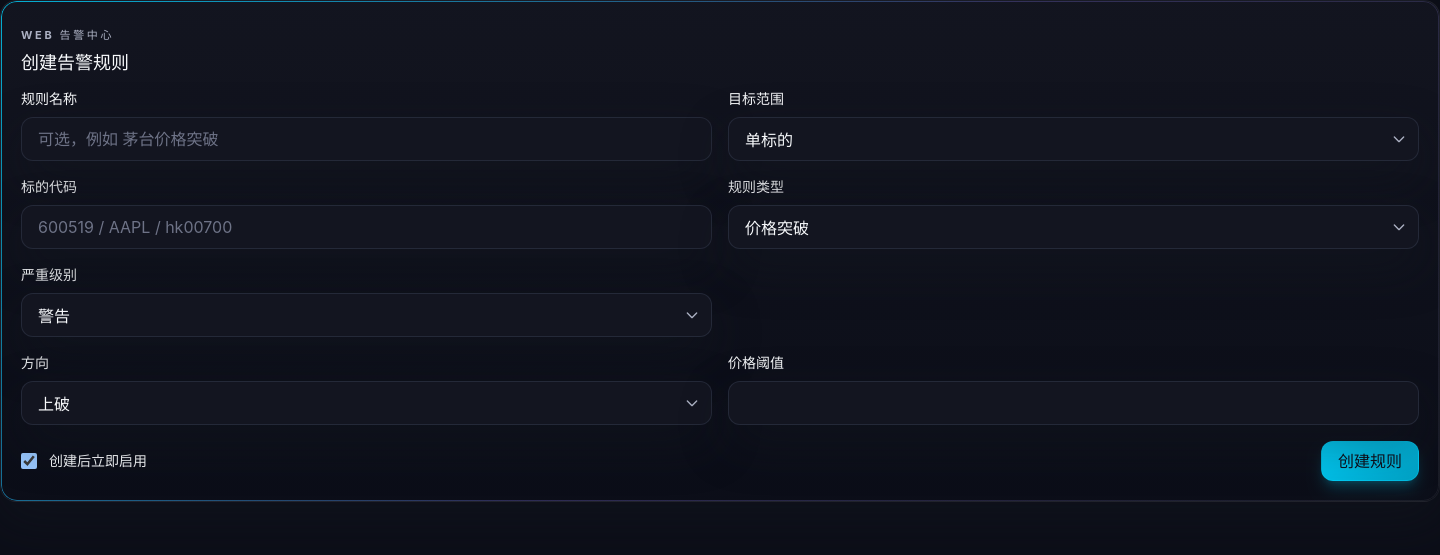
Test case: AlertRuleForm › rejects empty required technical indicator thresholds before submit
The image size is (1440, 555).
Step 1. Type "600519" into the field labelled "标的代码" → (366, 227), box [21, 205, 712, 249]
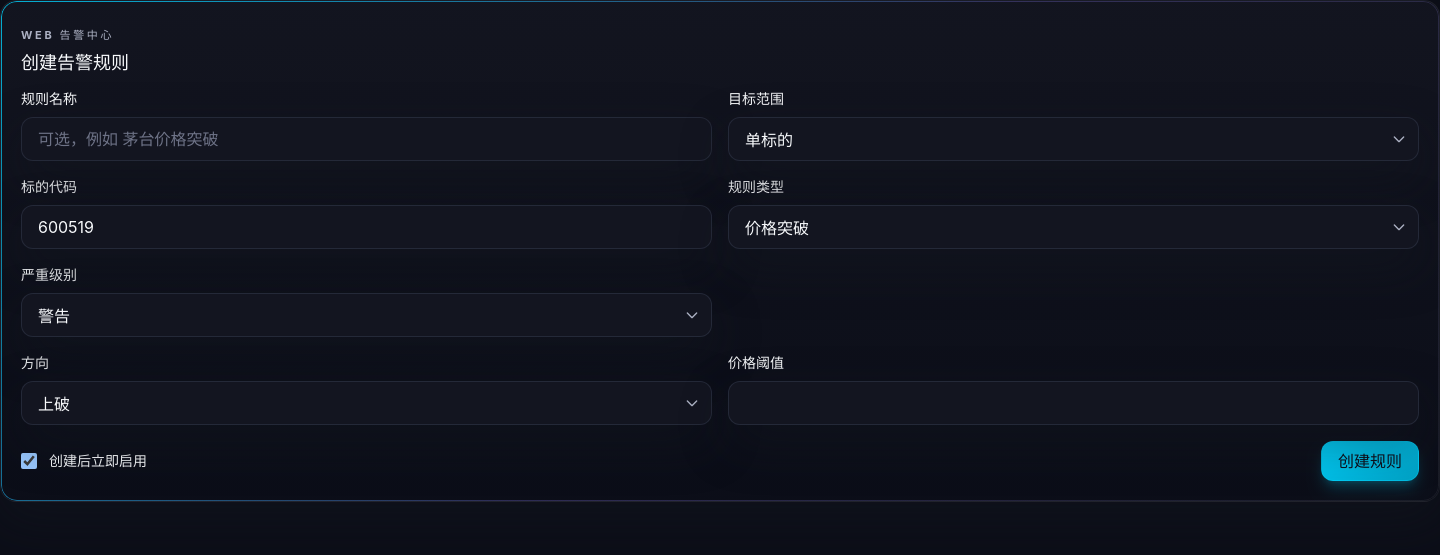
Step 2. Select "RSI 阈值" in the dropdown labelled "规则类型" → (1074, 227), box [728, 205, 1419, 249]
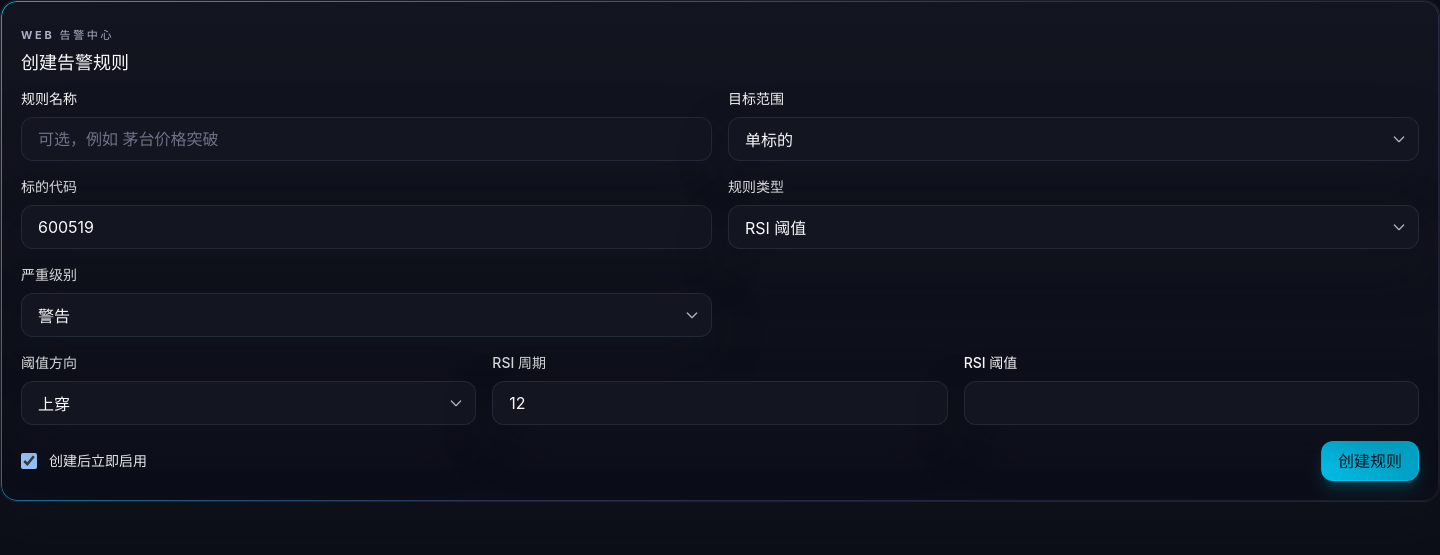
Step 3. Click the button "创建规则" → (1370, 461), box [1321, 441, 1419, 481]
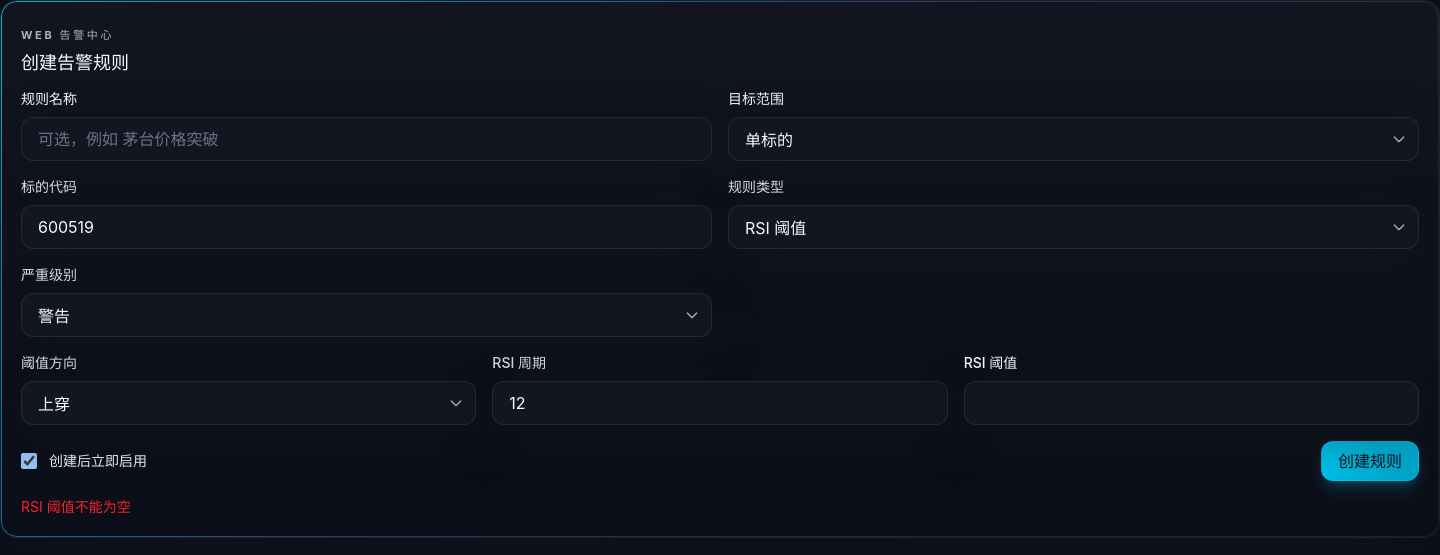
Result: the message reads "RSI 阈值不能为空" at [21, 498, 131, 515]
Step 4. Select "CCI 阈值" in the dropdown labelled "规则类型" → (1074, 227), box [728, 205, 1419, 249]
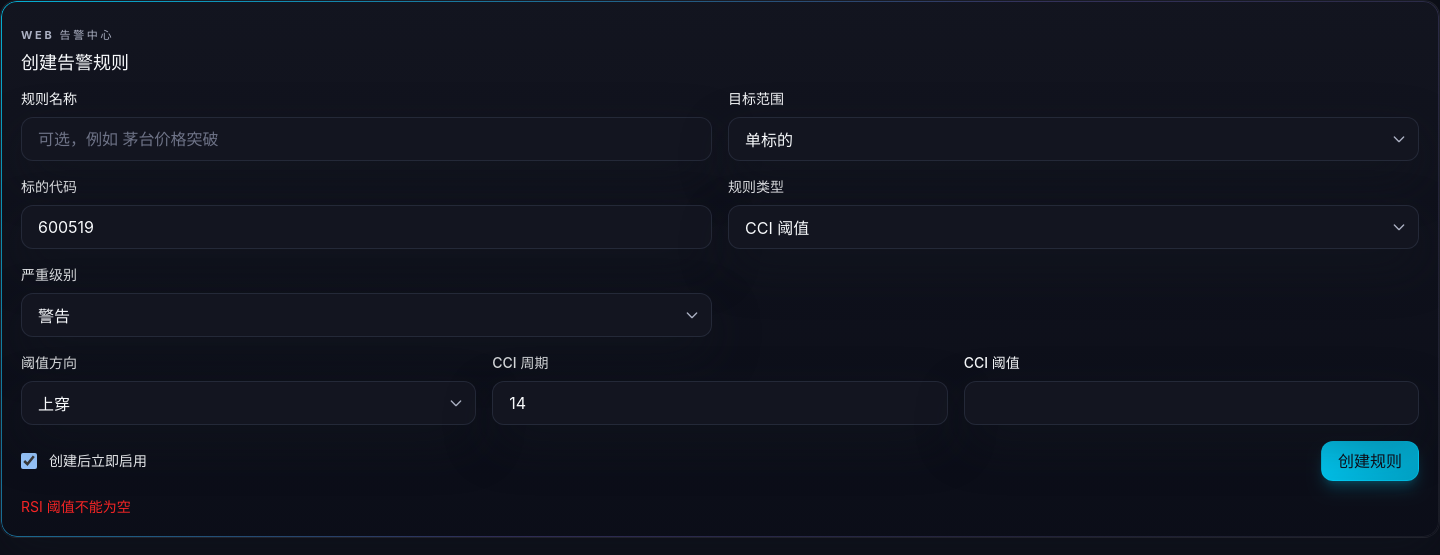
Step 5. Click the button "创建规则" → (1370, 461), box [1321, 441, 1419, 481]
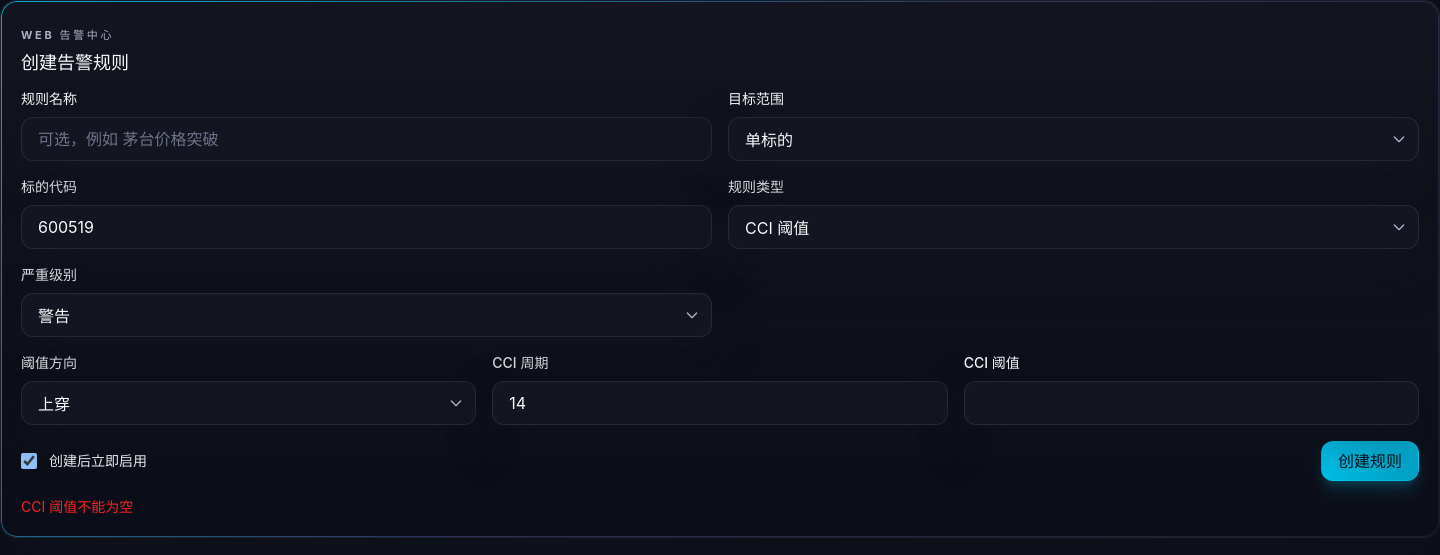
Result: the message reads "CCI 阈值不能为空" at [21, 498, 133, 515]
